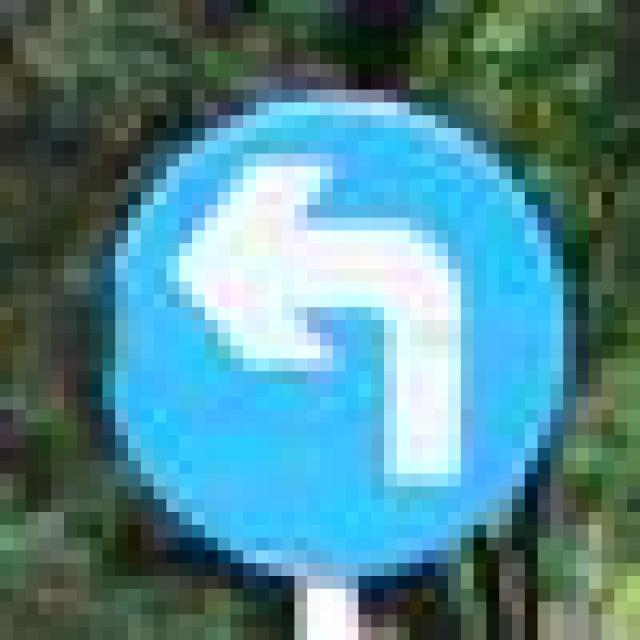compulsary turn left ahead: (105, 95, 568, 576)
